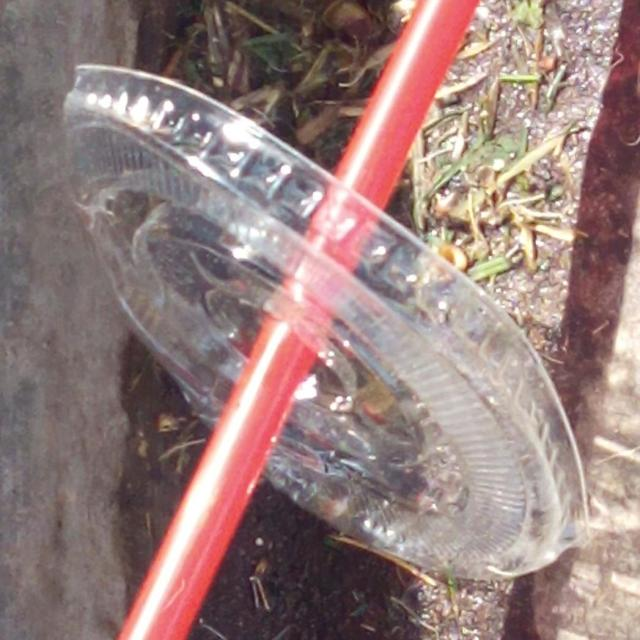litter: (63, 67, 590, 575), (114, 0, 481, 636)
